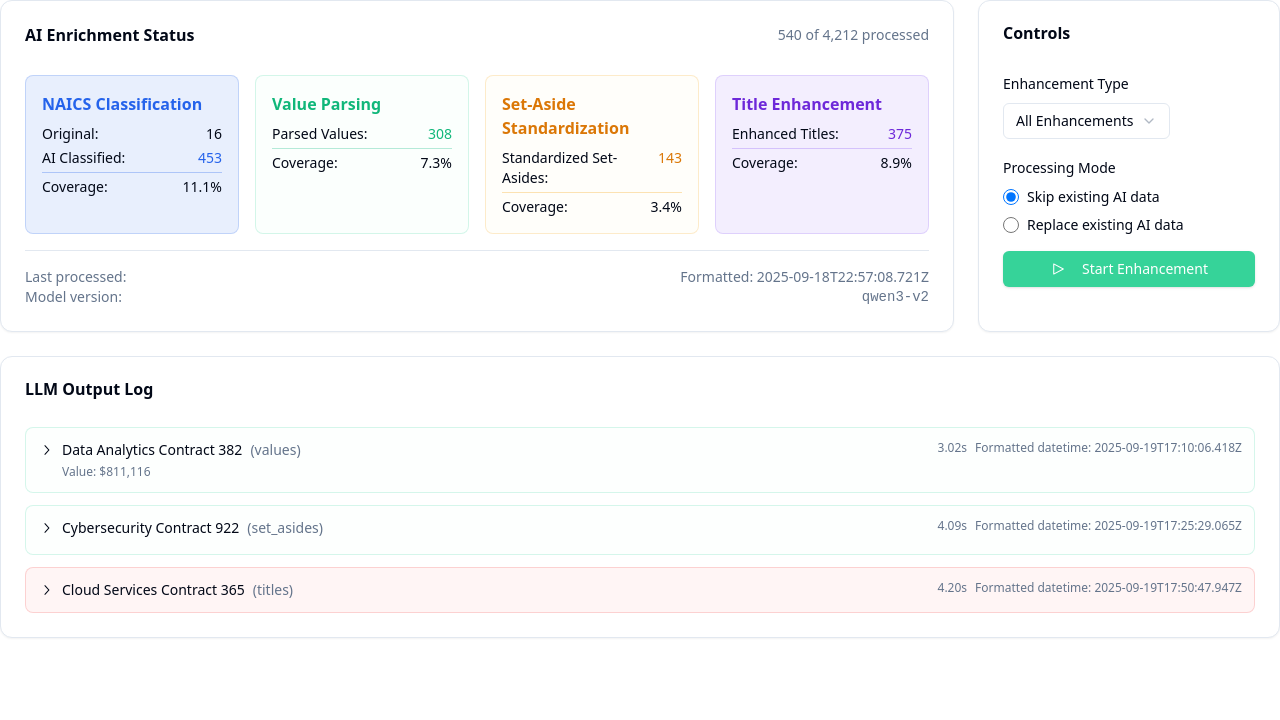
Test case: AIEnrichment › expands and collapses output details
Step 1. Click the button without text next to "Data Analytics Contract 382" → (46, 450), box [38,442,54,458]
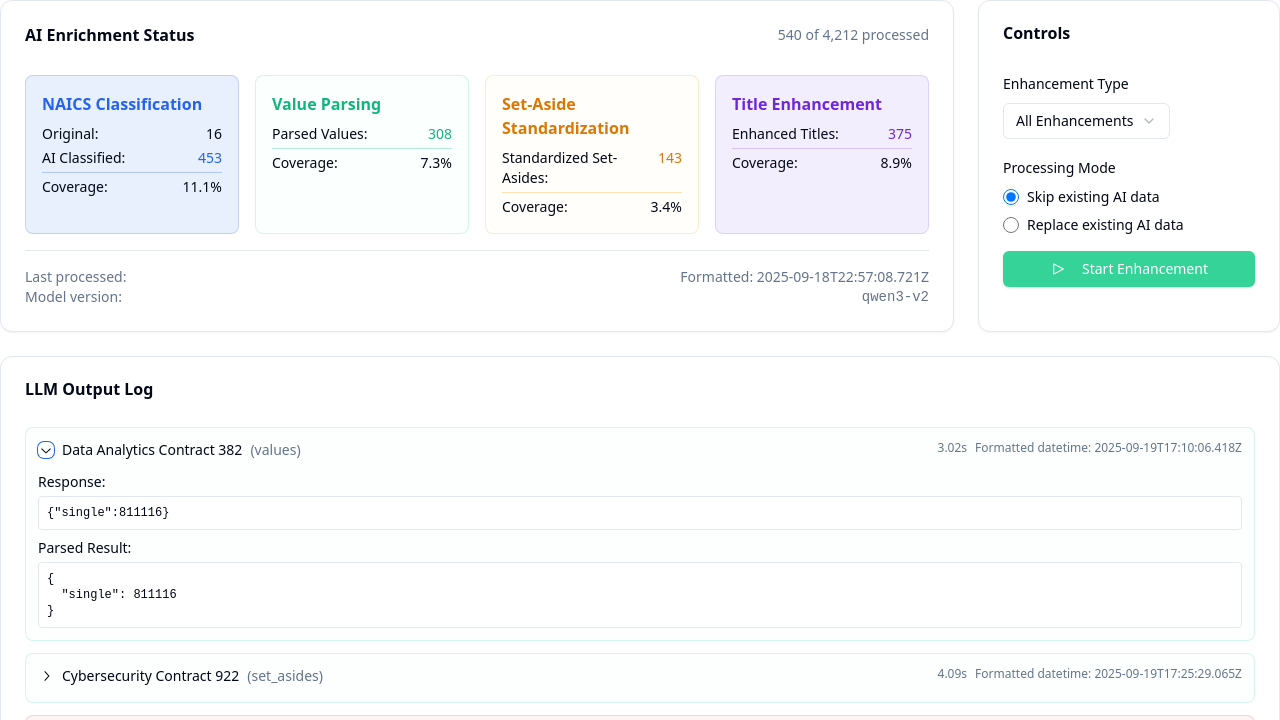
Expected: the text "Response:" is shown, [38,472,105,491]
Expected: the text "Parsed Result:" is shown, [38,538,131,557]
Step 2. Click the button without text next to "Data Analytics Contract 382" → (46, 450), box [38,442,54,458]
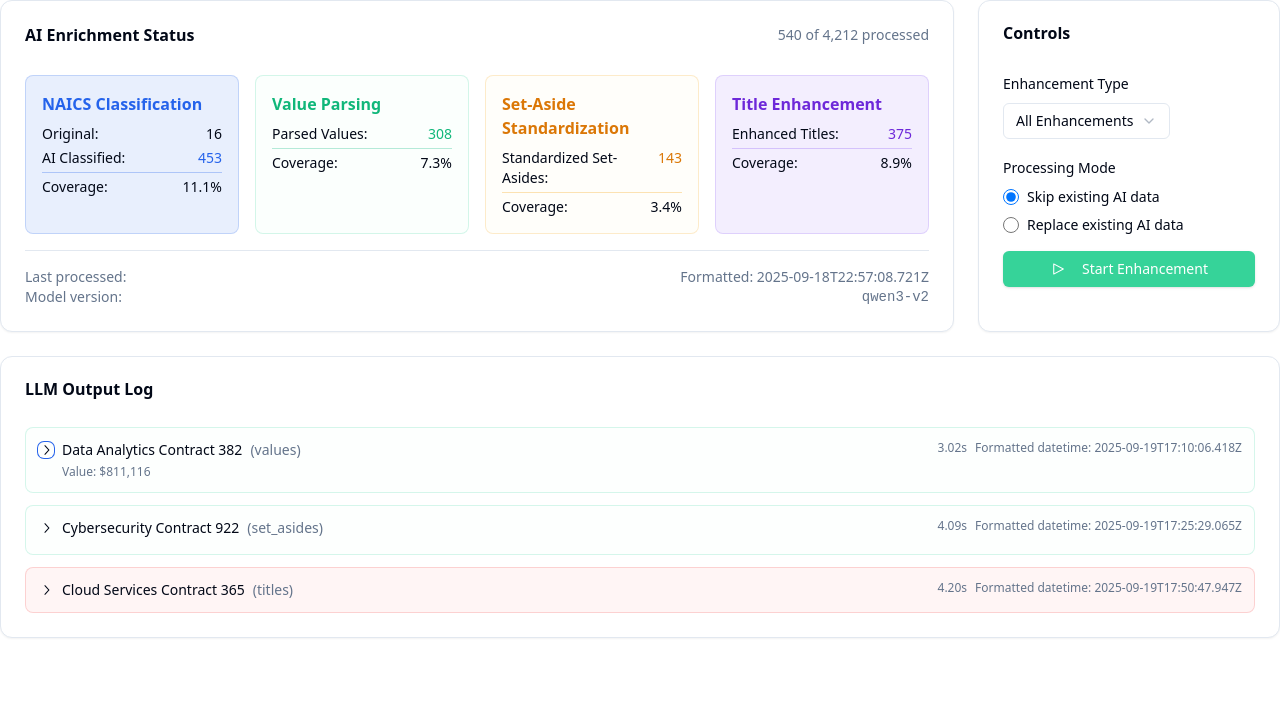
Expected: the text "Response:" is gone
